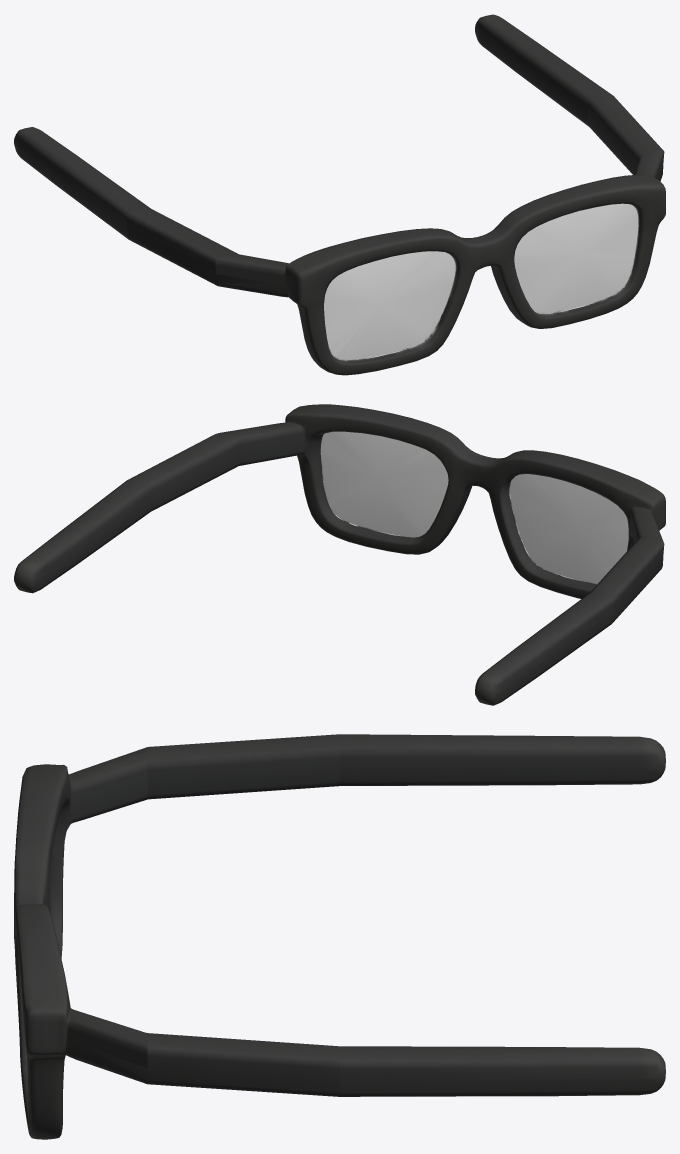
The model's file is glasses.glb.
3 renders of one model, top to bottom at view 1: azimuth 30°, elevation 25°; view 2: azimuth 150°, elevation 25°; view 3: azimuth 270°, elevation 25°, orthographic. The views are drawn at different scales.
Visible parts, largest first — view 1: glasses; view 2: glasses; view 3: glasses.
Part boxes in pixels (x1,y1,x2,y2): glasses: (14, 14, 665, 375); glasses: (14, 404, 665, 705); glasses: (14, 734, 665, 1139).
Size of the model in its own units: 0.1849 by 0.0464 by 0.155.
1 material, 1 textured.
